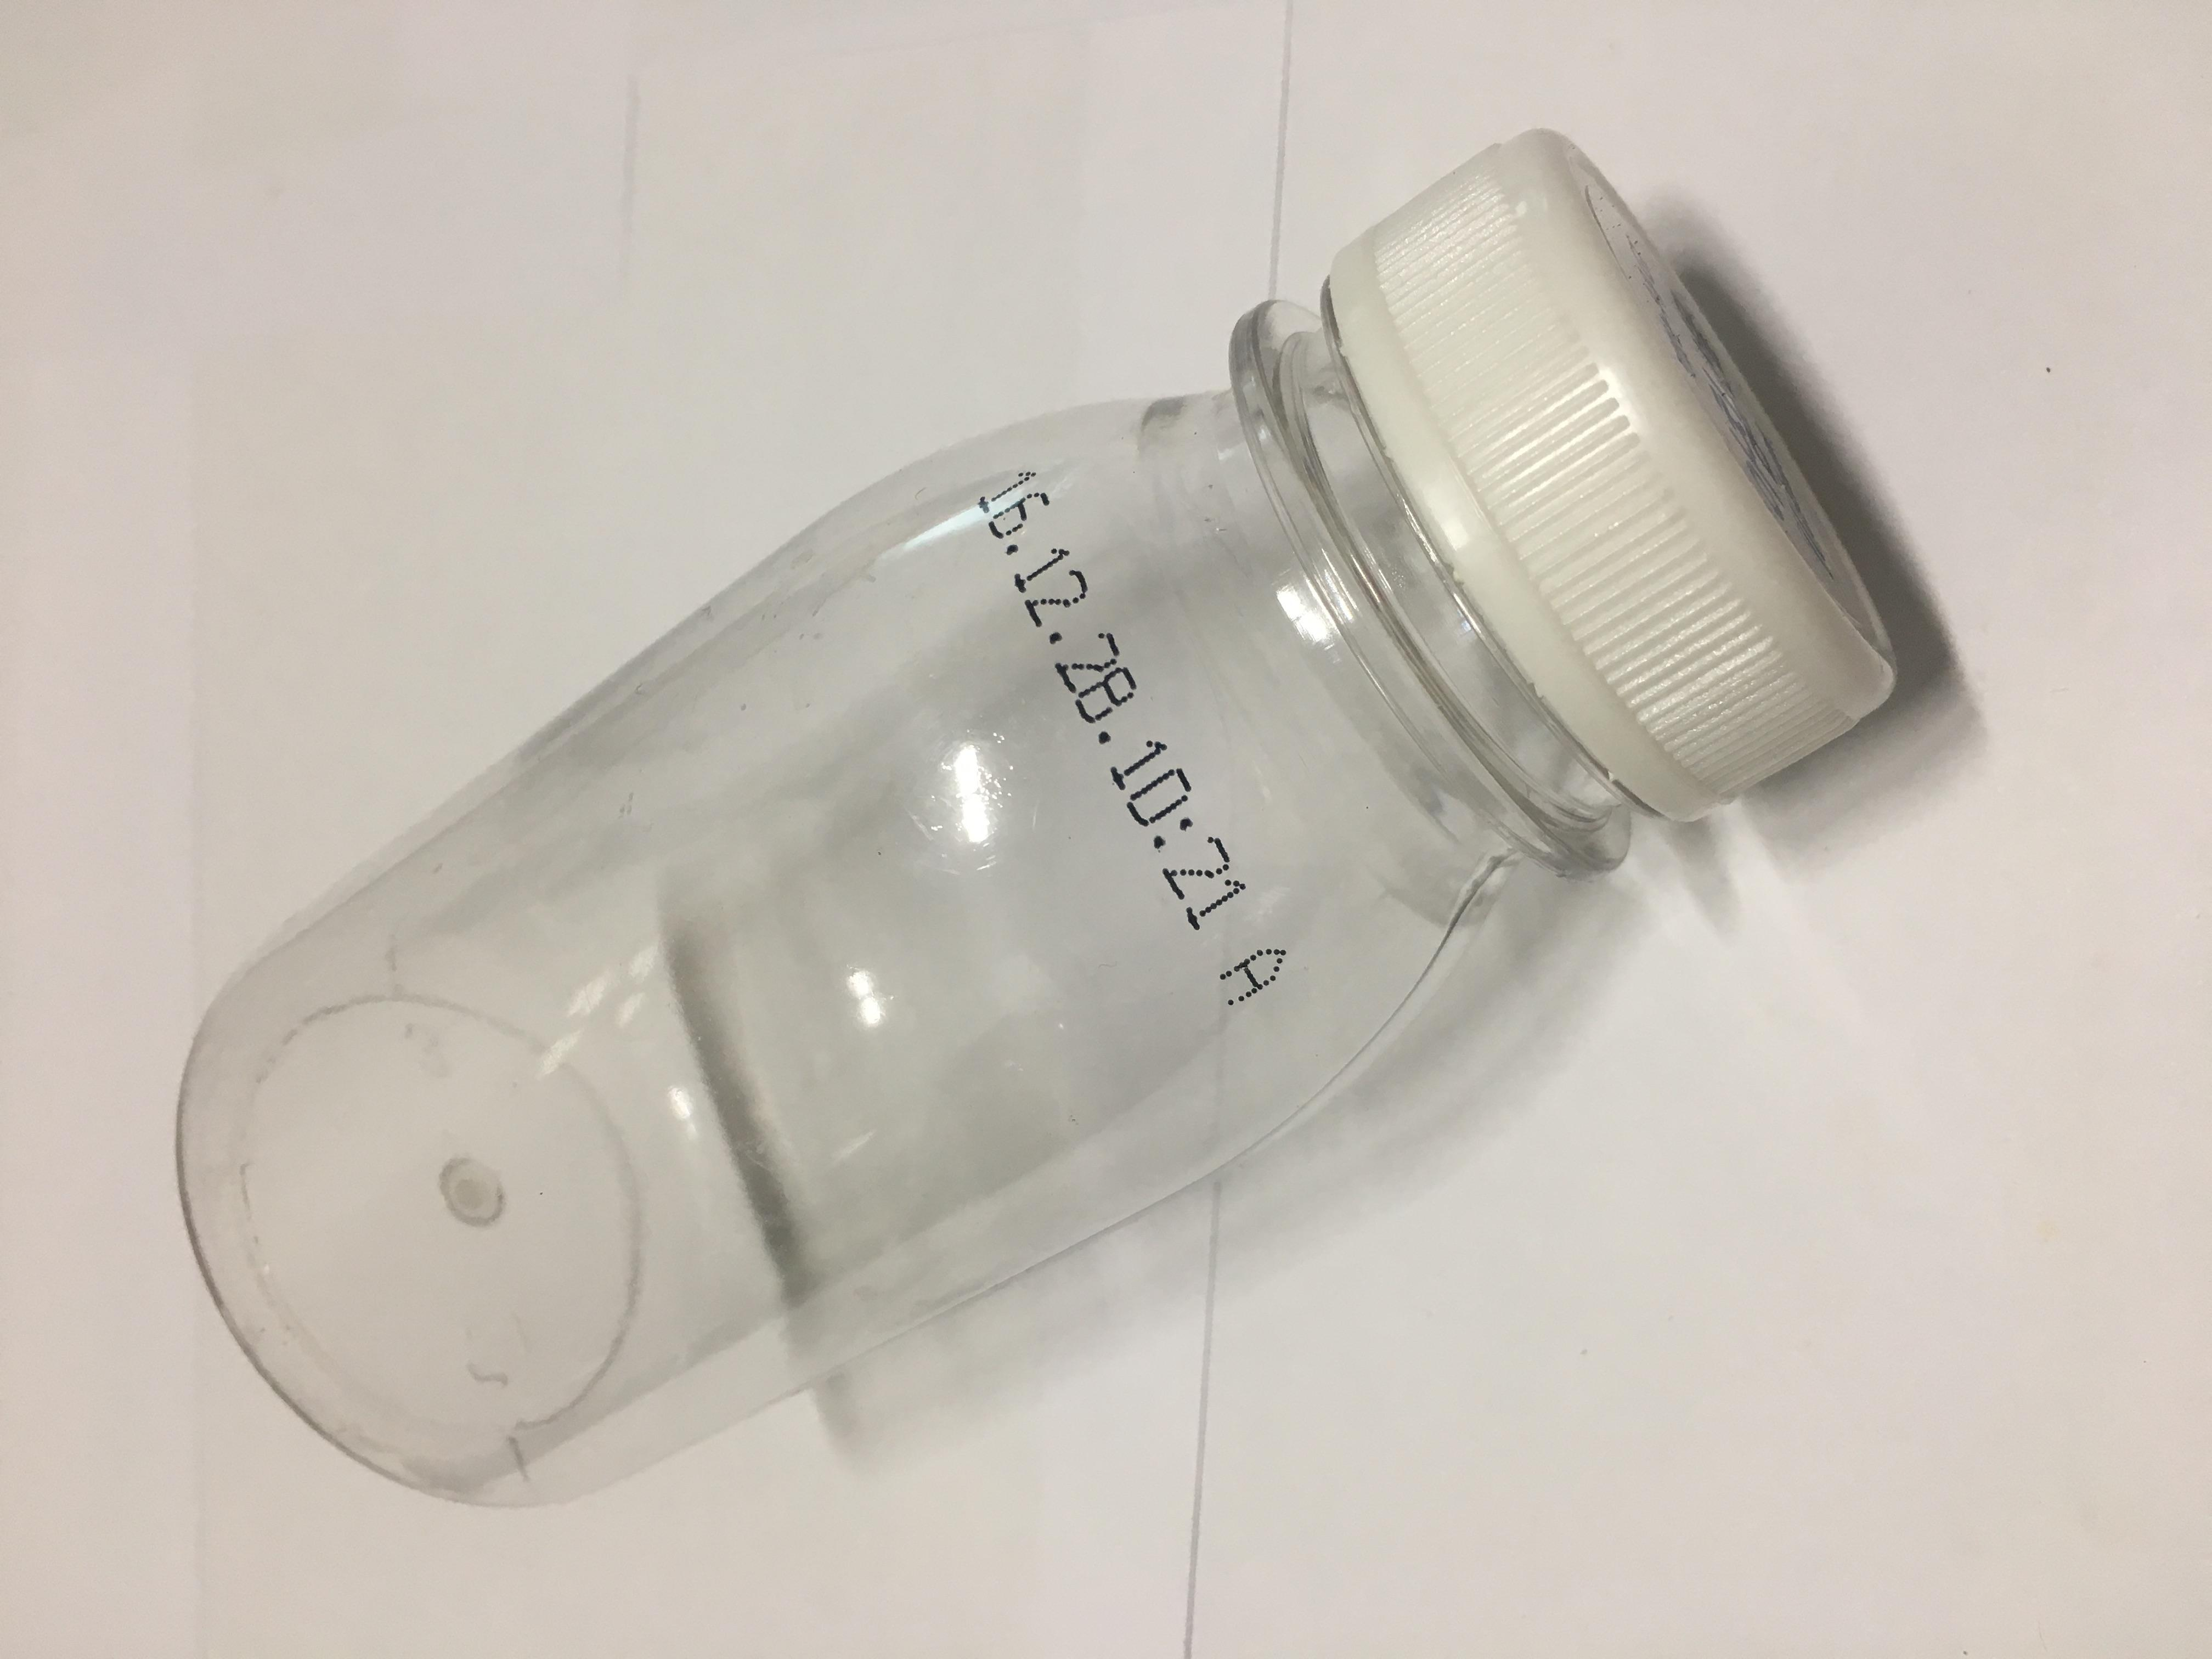bottle: (105, 735, 2118, 760)
